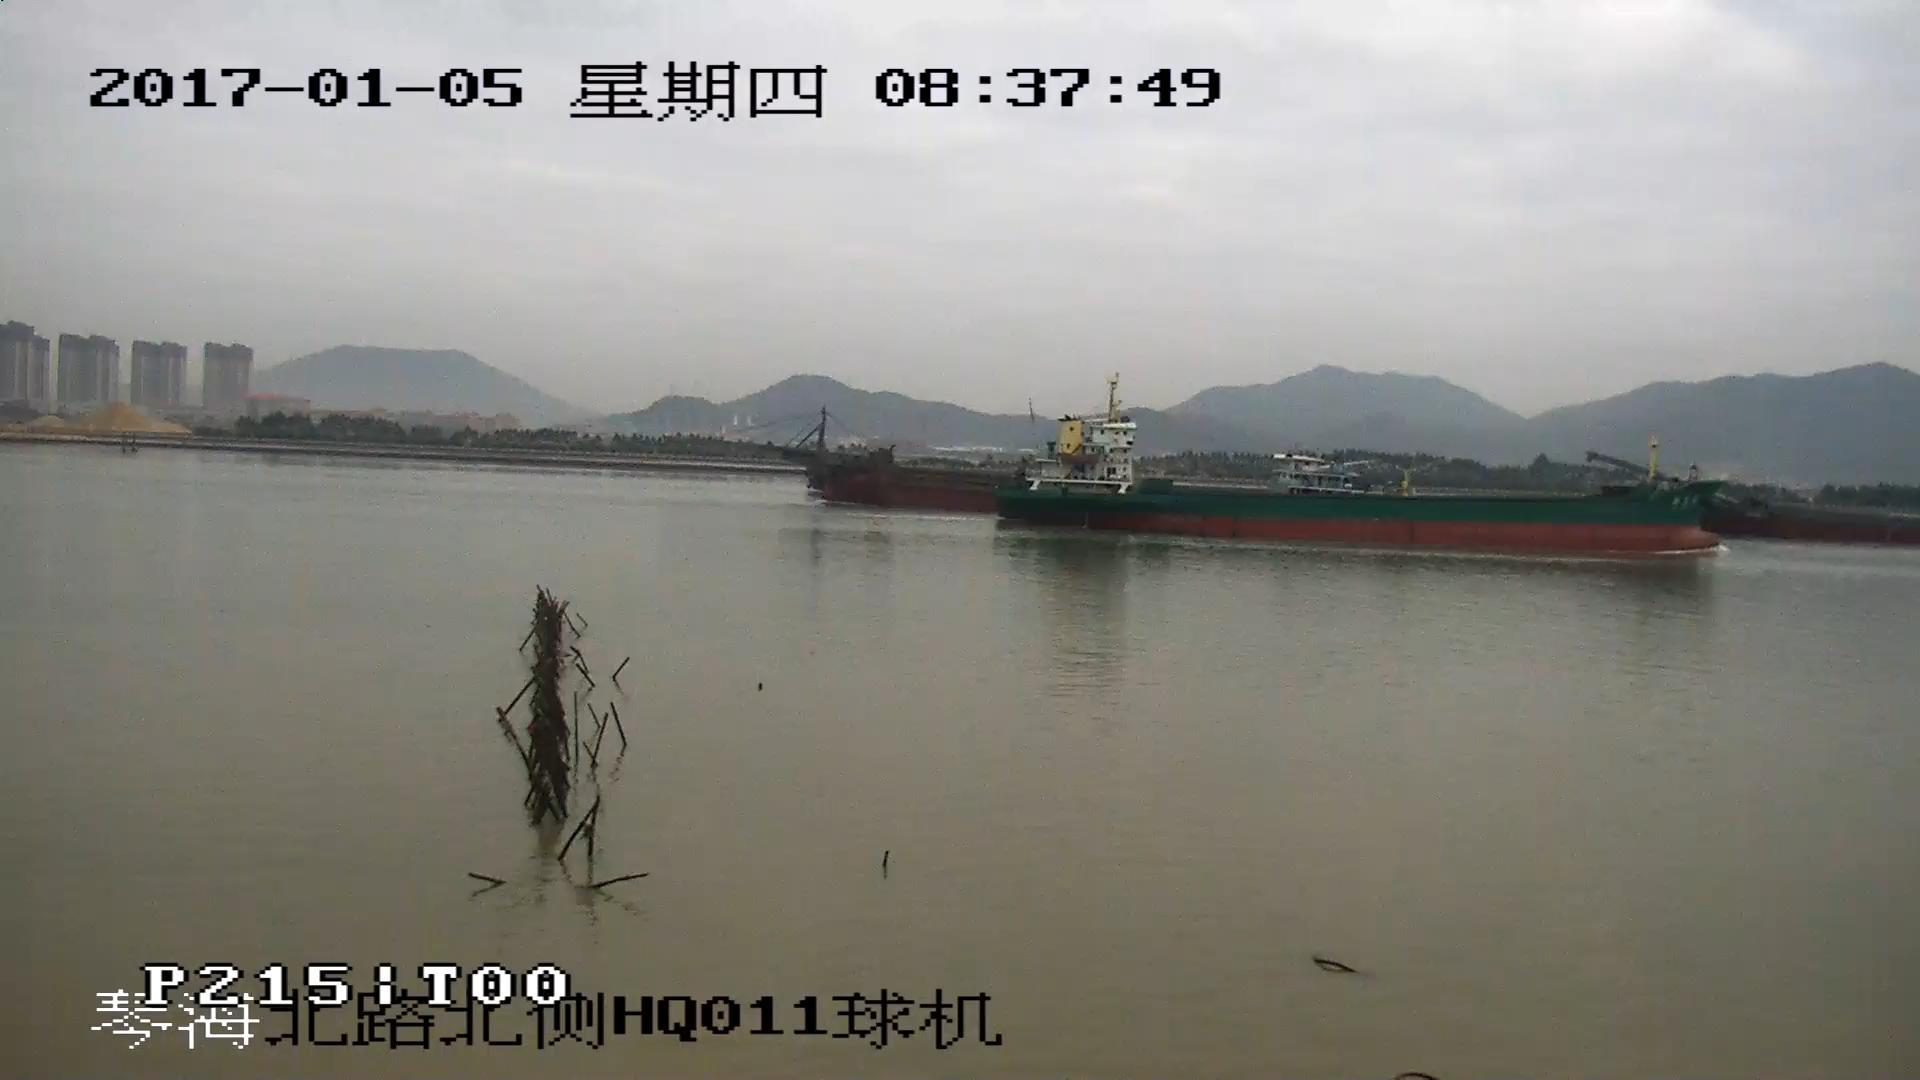Ship: (989, 389, 1727, 556), (724, 419, 1000, 516), (1730, 485, 1920, 549)
